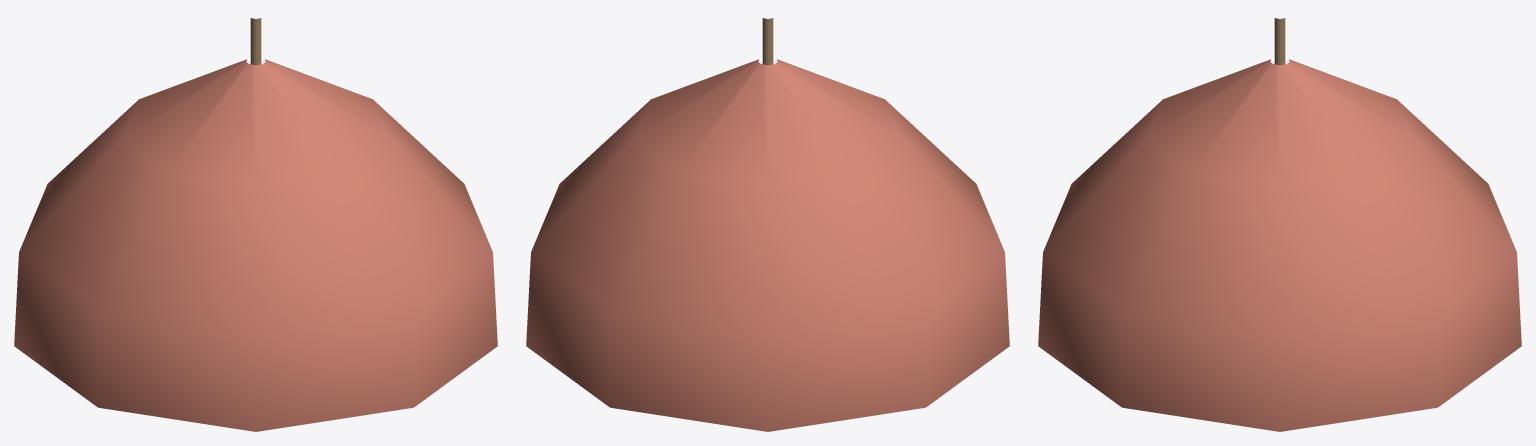
Rendered from TentRed.glb.
3 renders of one model, left to right at view 1: azimuth 30°, elevation 25°; view 2: azimuth 150°, elevation 25°; view 3: azimuth 270°, elevation 25°, orthographic.
Visible parts, largest first — view 1: TentRed; view 2: TentRed; view 3: TentRed.
Boxes of the visible parts, <box> form: TentRed: <box>14,18,497,431</box>; TentRed: <box>526,18,1009,431</box>; TentRed: <box>1038,18,1521,431</box>.
Size of the model in its own units: 3.88 by 2.8 by 3.94.
